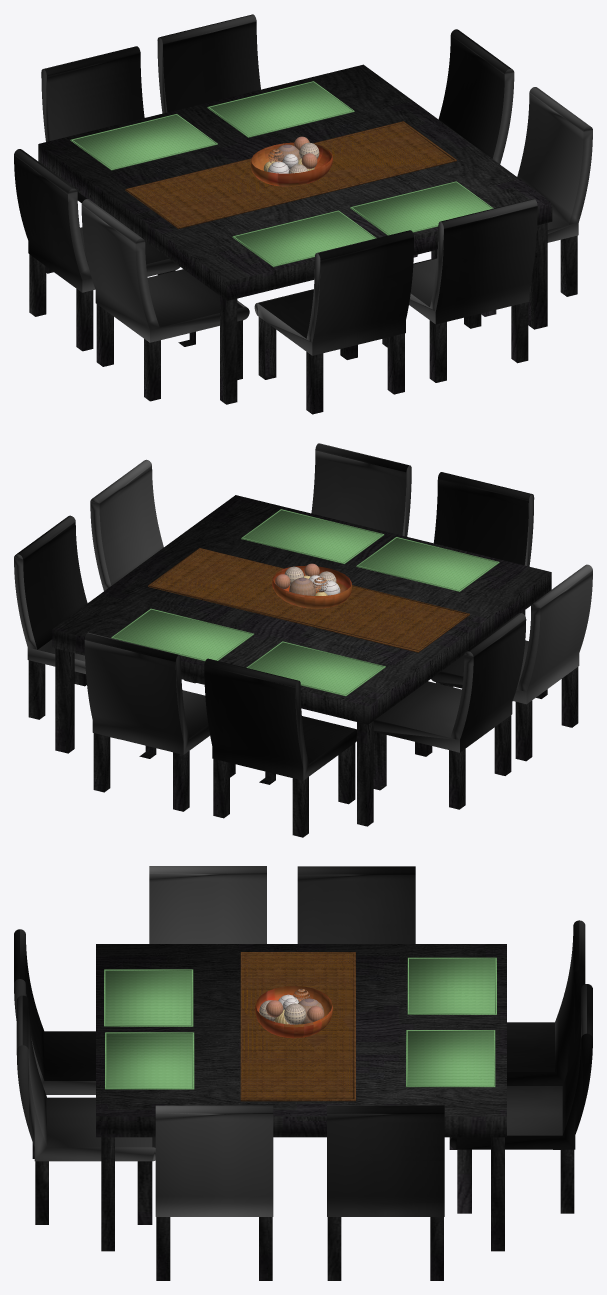
The model's file is dinner-table.dae.
3 views of the same model, one above another, from view 1: azimuth 30°, elevation 25°; view 2: azimuth 150°, elevation 25°; view 3: azimuth 270°, elevation 25° (orthographic). The views are drawn at different scales.
Parts seen in each view (by area): view 1: Model, Group1, Group5, Group4, Group3, Group2, Group6; view 2: Model, Group1, Group2, Group3, Group4, Group5, Group6; view 3: Model, Group1, Group2, Group3, Group4, Group5, Group6.
Boxes of the visible parts, bbox=[...] form: Model: bbox=[14, 14, 592, 414]; Group1: bbox=[125, 121, 456, 228]; Group5: bbox=[70, 114, 217, 170]; Group4: bbox=[207, 81, 354, 137]; Group3: bbox=[232, 210, 376, 267]; Group2: bbox=[350, 181, 493, 235]; Group6: bbox=[250, 142, 332, 186]; Model: bbox=[14, 443, 592, 837]; Group1: bbox=[148, 548, 469, 652]; Group2: bbox=[241, 509, 384, 564]; Group3: bbox=[356, 537, 499, 591]; Group4: bbox=[111, 608, 254, 661]; Group5: bbox=[246, 641, 385, 696]; Group6: bbox=[272, 565, 352, 608]; Model: bbox=[14, 866, 592, 1280]; Group1: bbox=[240, 952, 355, 1101]; Group2: bbox=[105, 1032, 194, 1089]; Group3: bbox=[104, 969, 193, 1026]; Group4: bbox=[406, 1030, 495, 1087]; Group5: bbox=[407, 957, 496, 1014]; Group6: bbox=[255, 986, 332, 1038].
Size of the model in its own units: 4552 by 4556 by 1565.
15 materials, 14 textured.
